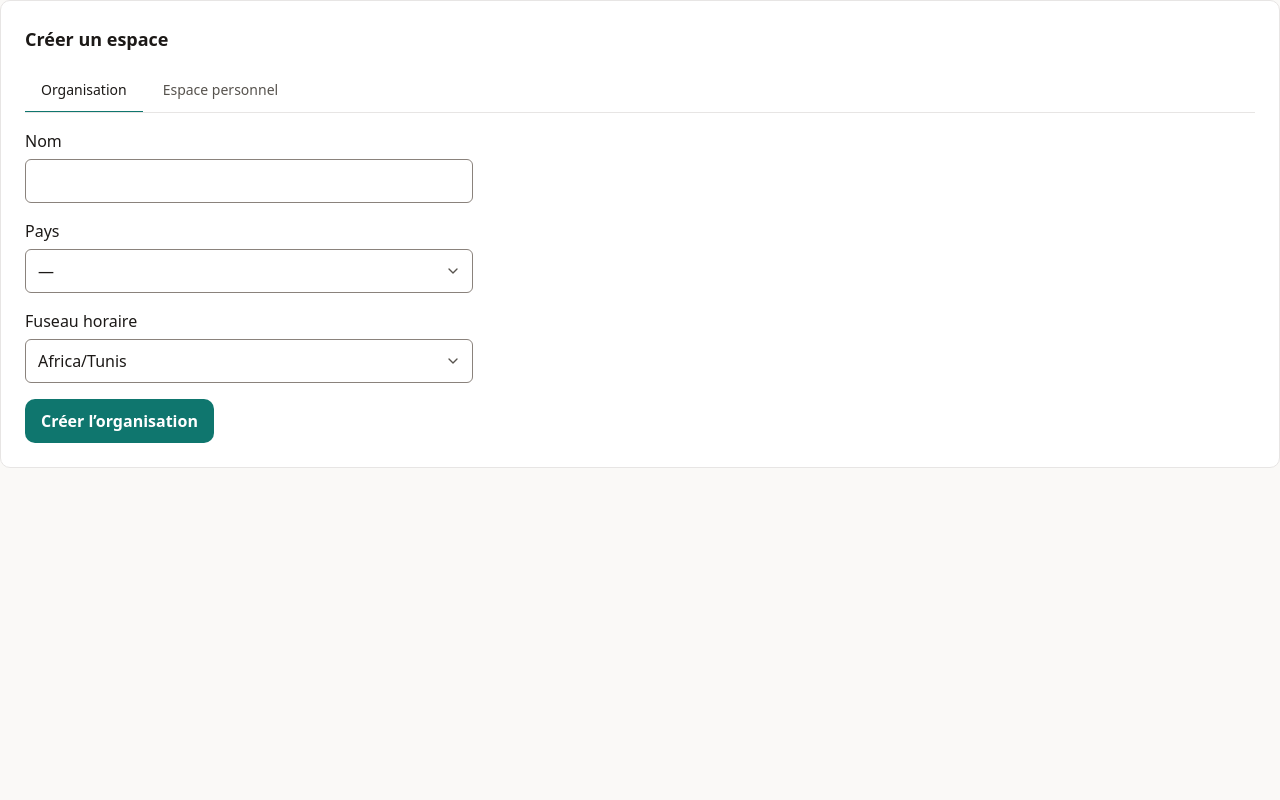
Test: CreateWorkspacePanel › toasts and refreshes the list once an organisation is created
Type "Atlas" into the field labelled "Nom" at (249, 181), box [25,159,473,203]
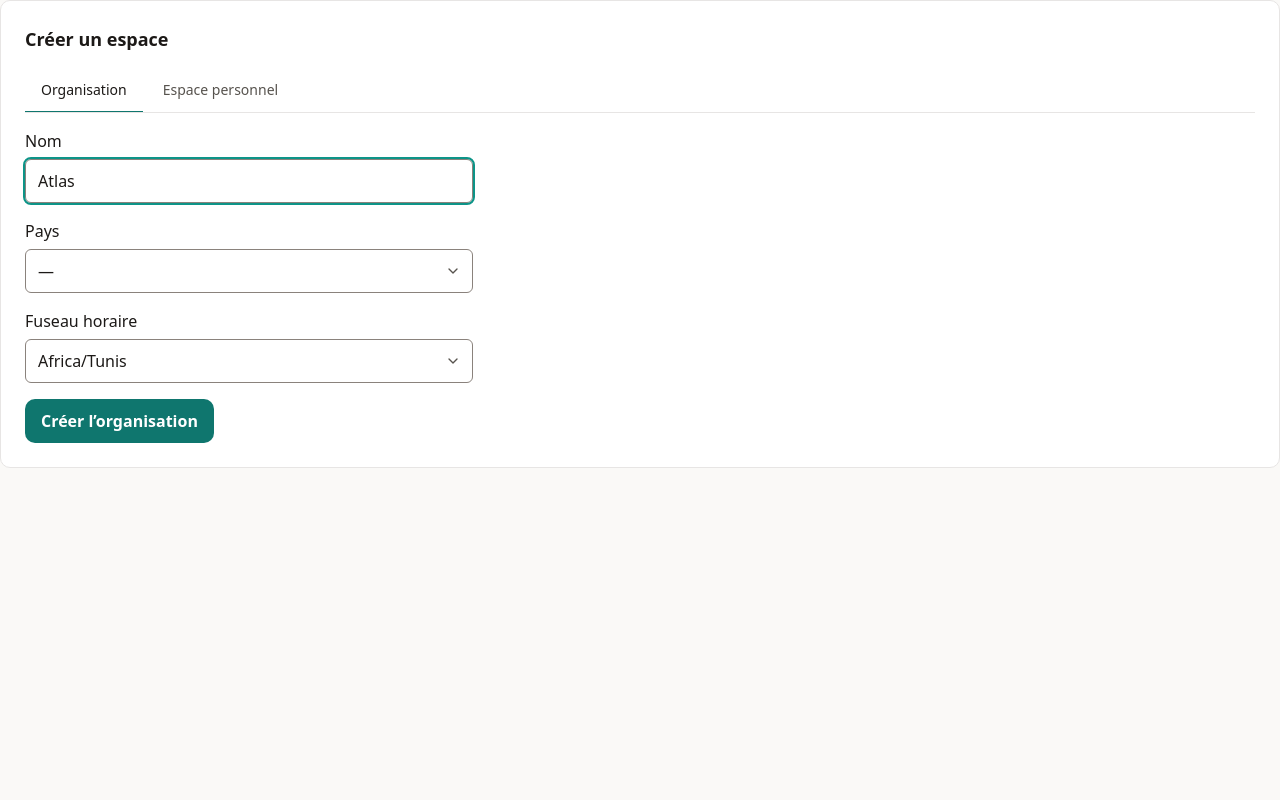
Click the button "Créer l’organisation" at (119, 421), box [25,399,214,443]
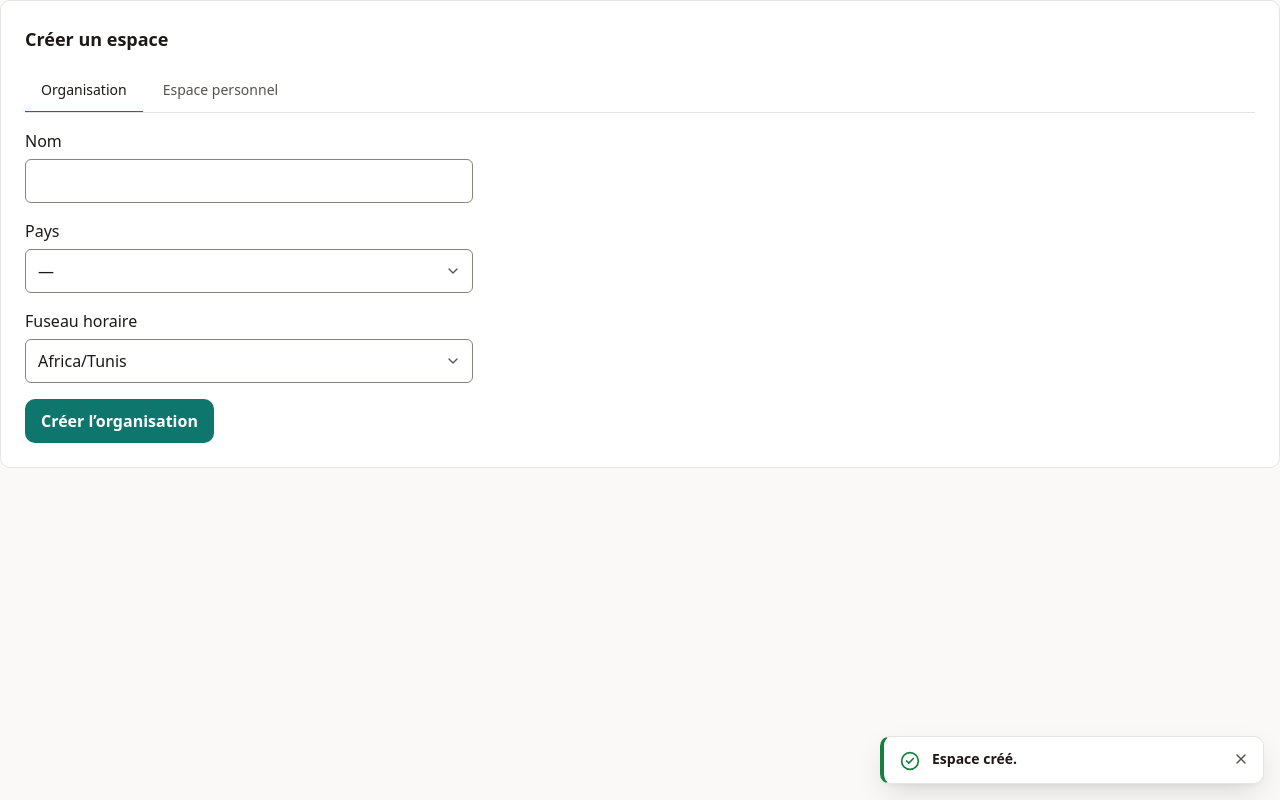
Expected: the text "Espace créé." is shown, [932,749,1017,769]
